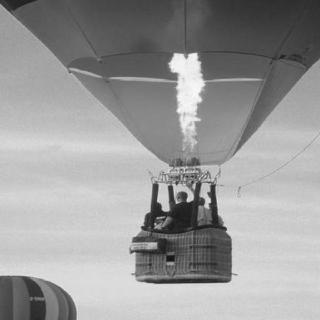Fire: (160, 51, 208, 163)
